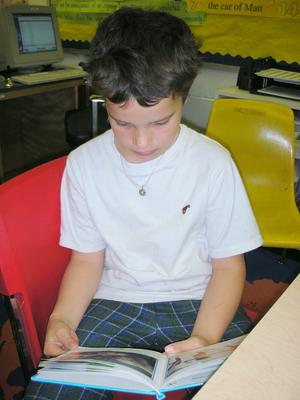person: (23, 7, 266, 400)
